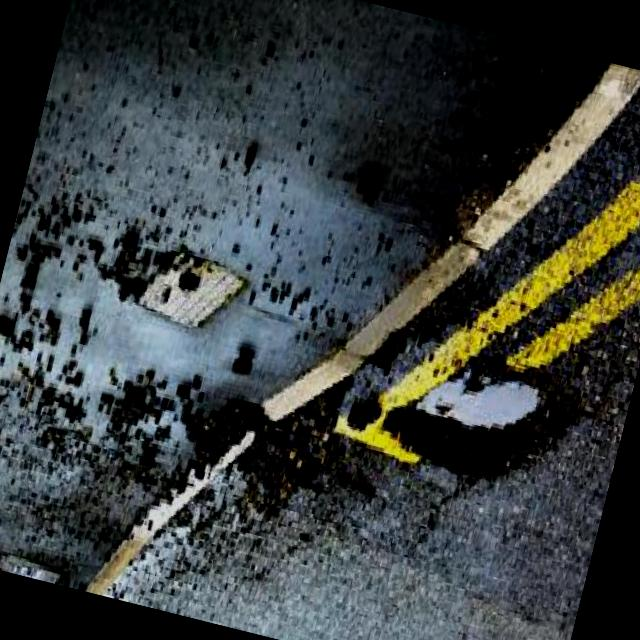pothole: (373, 334, 588, 504)
